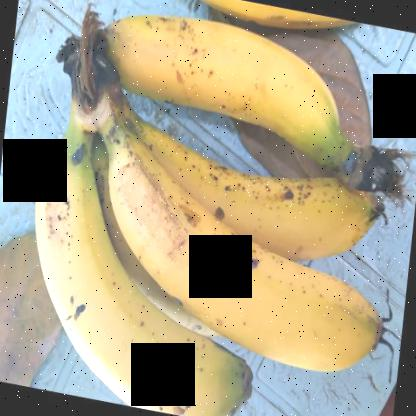ripe: (29, 150, 259, 415), (99, 173, 394, 371), (133, 108, 390, 278), (90, 1, 346, 157)
